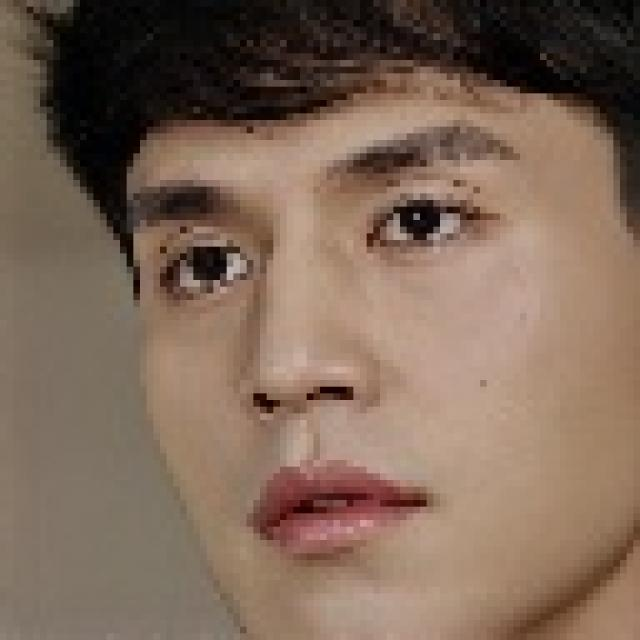sad: (93, 0, 640, 640)
